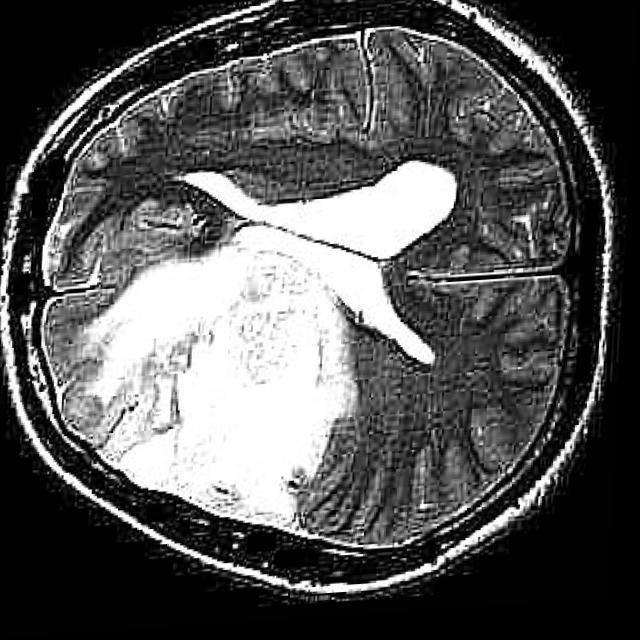Tumor: (93, 254, 352, 529)
